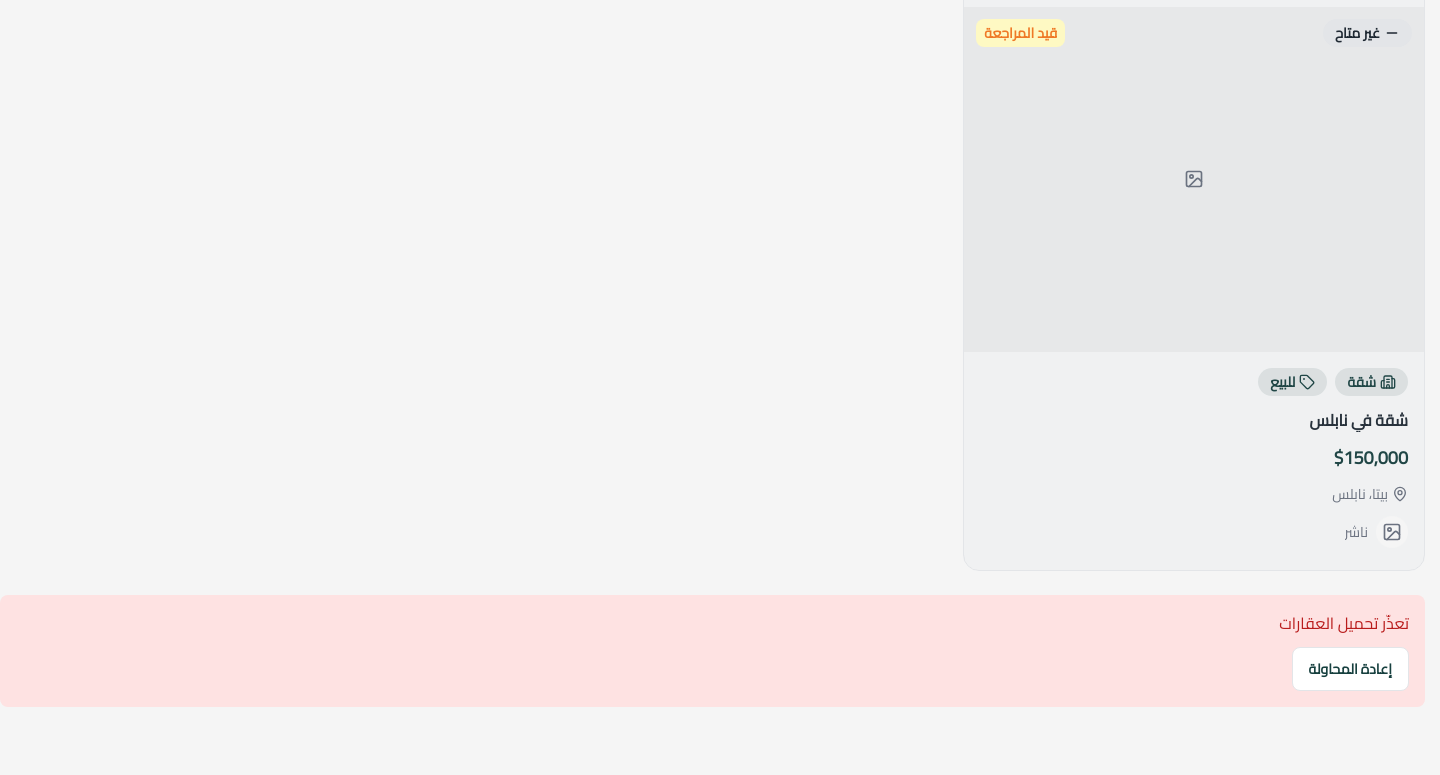
it: preserves loaded properties and retries the same failed next page
(page scrolled)
Check: the message "تعذّر تحميل العقارات إعادة المحاولة" is shown, box [0,595,1425,707]
Check: the link "شقة في نابلس" is shown, box [1310,408,1408,432]
Click the button "إعادة المحاولة": click(1350, 669) [1292,647,1409,691]
(page scrolled)
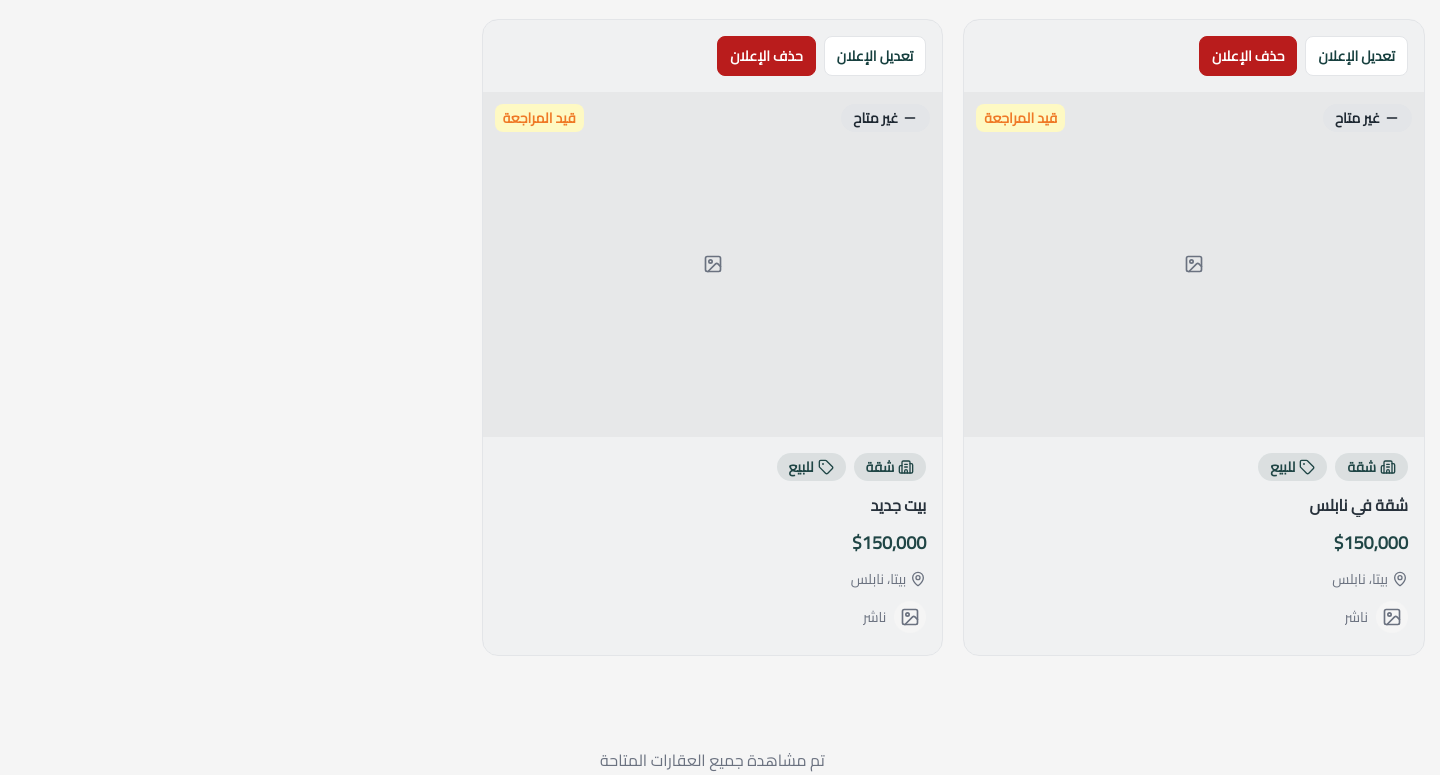
Check: the link "شقة في نابلس" is shown, box [1310,493,1408,517]
Check: the link "بيت جديد" is shown, box [870,493,926,517]
